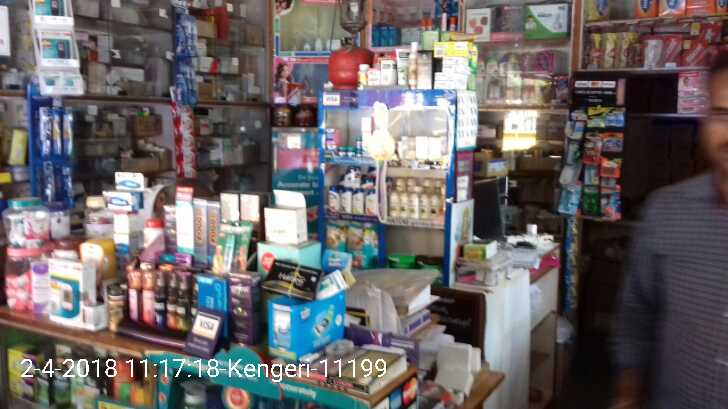oralcare: (33, 97, 74, 204)
